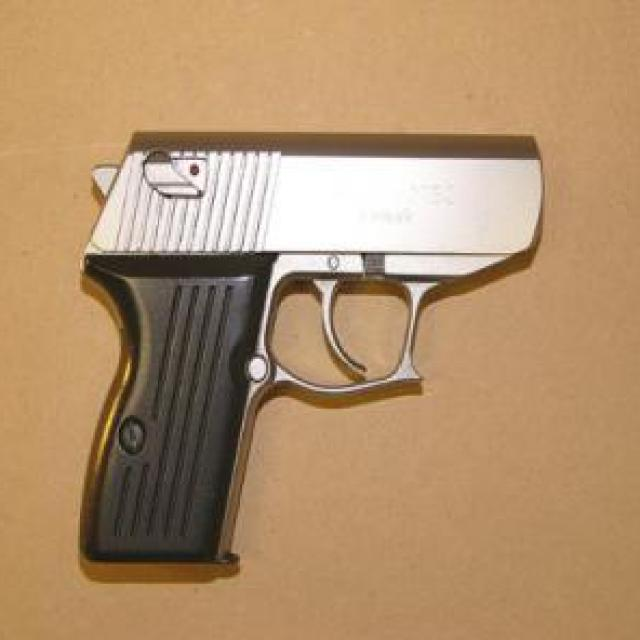pistol: (78, 129, 540, 566)
